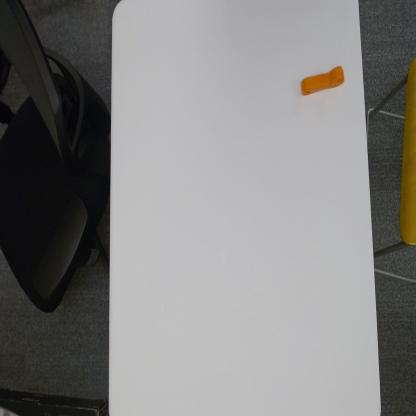Screwdriver: (300, 61, 348, 102)
